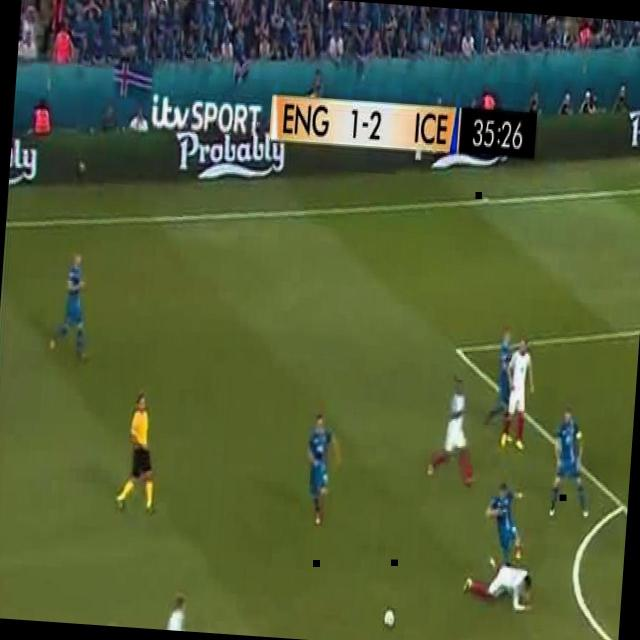ball: (384, 608, 396, 628)
player-white: (426, 378, 478, 488), (116, 392, 162, 513), (548, 406, 596, 520), (48, 252, 93, 361), (301, 414, 344, 527), (462, 554, 536, 614), (500, 338, 538, 452), (482, 480, 526, 570), (485, 329, 518, 427), (142, 589, 196, 632)
